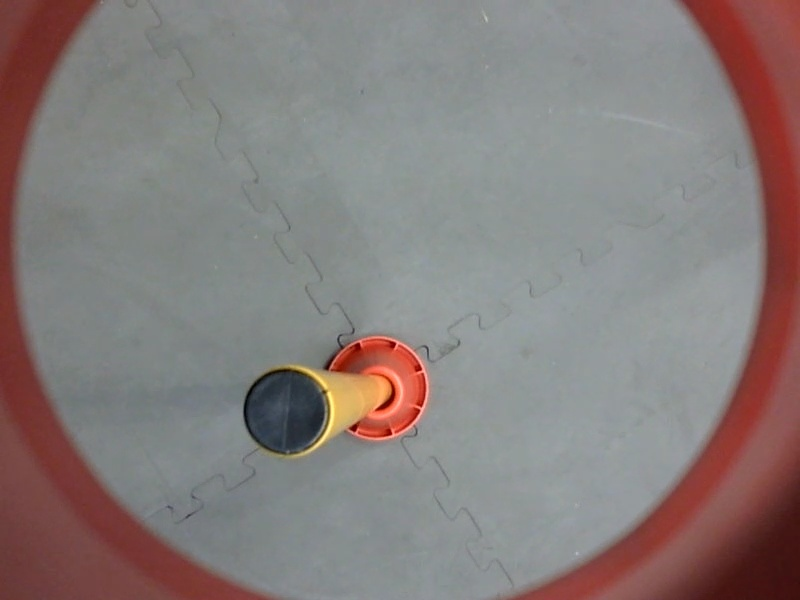tip: (239, 360, 335, 467)
